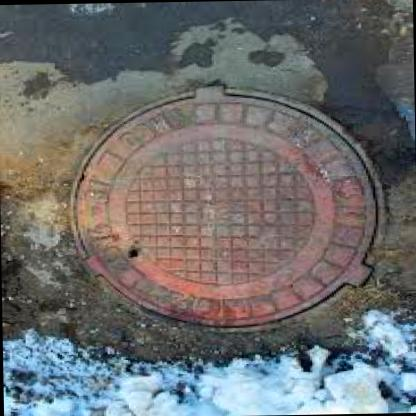manholes: (47, 64, 393, 366)
